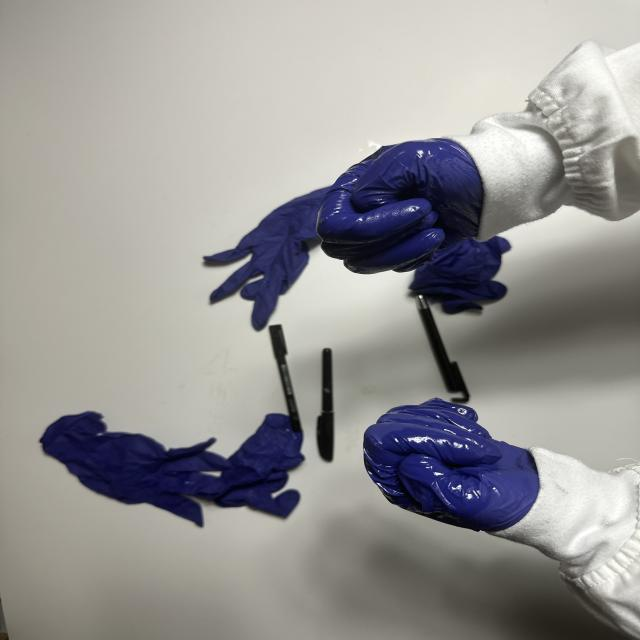gloves_contaminated: (364, 398, 539, 532), (317, 139, 483, 274)
